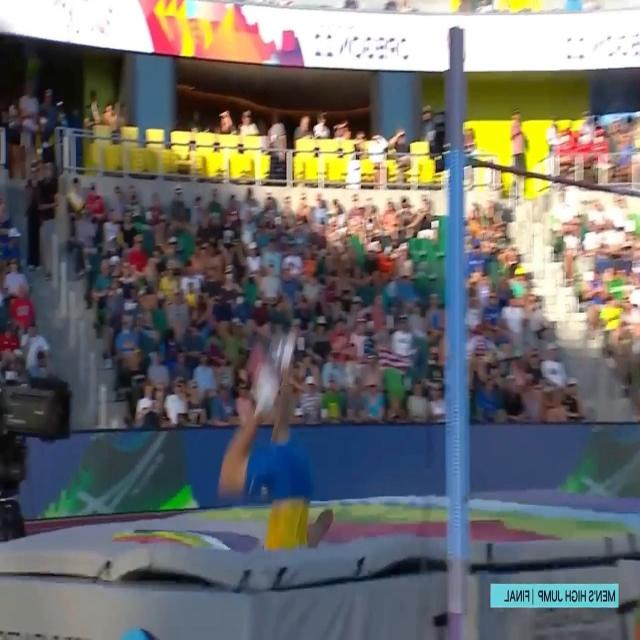land: (217, 322, 335, 554)
